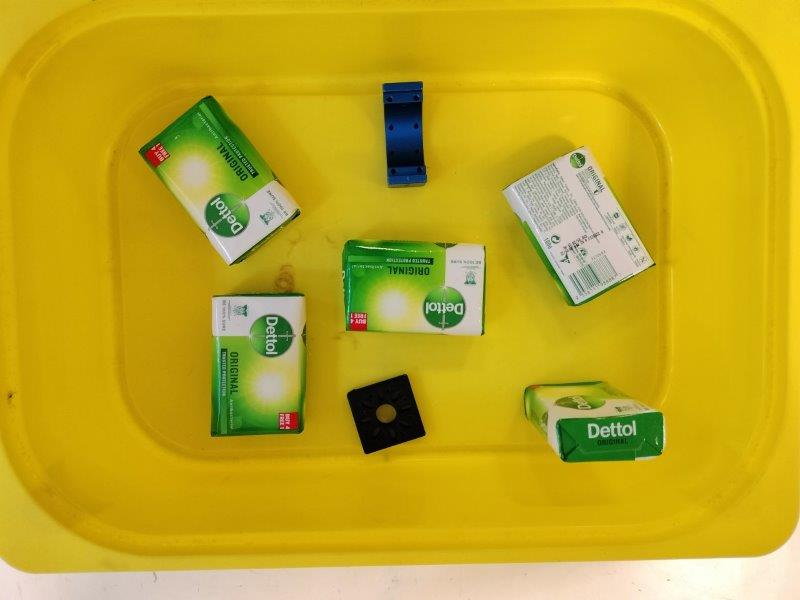Dettol: (140, 95, 299, 265), (504, 145, 656, 309), (342, 237, 485, 336), (212, 295, 306, 436), (525, 382, 666, 462)
